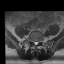CCS_stenosis: (35, 40, 36, 46)
LFS_stenosis: (38, 39, 40, 44)
LLS_normal: (36, 39, 38, 45)
RFS_stenosis: (32, 38, 33, 44)
RLS_normal: (33, 39, 35, 45)
